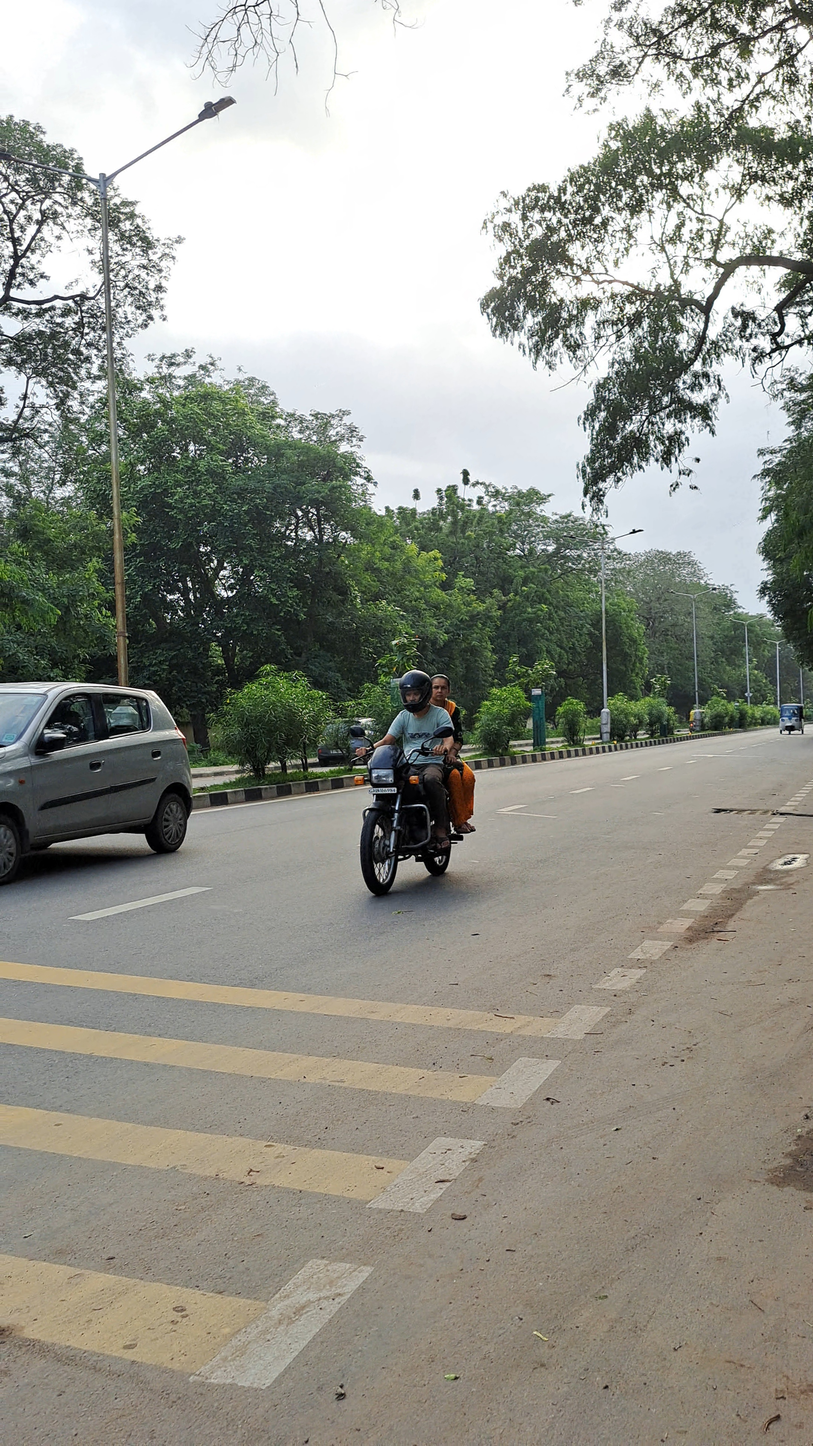BikeWithRider: (350, 664, 484, 904)
Helmet: (394, 666, 435, 711)
NoHelmet: (427, 672, 454, 709)
